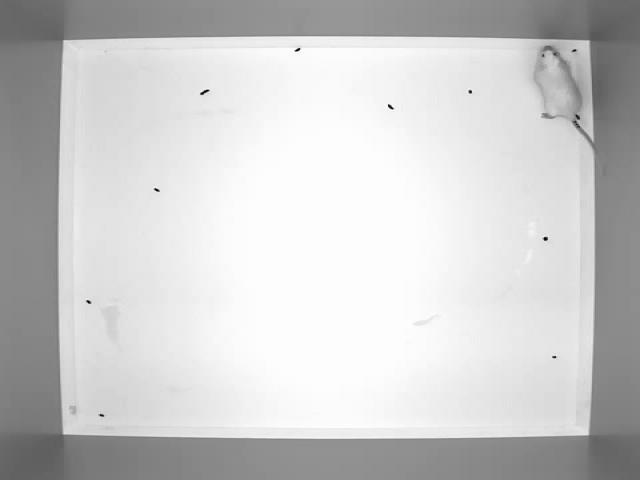Tikus: (531, 40, 604, 168)
